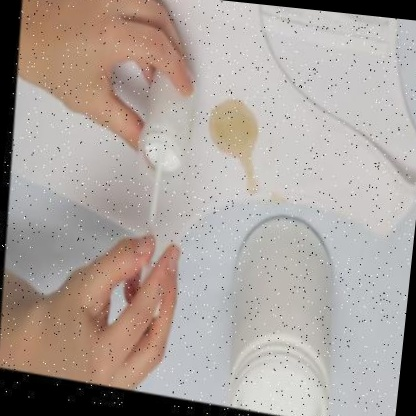coffee: (217, 110, 253, 149)
